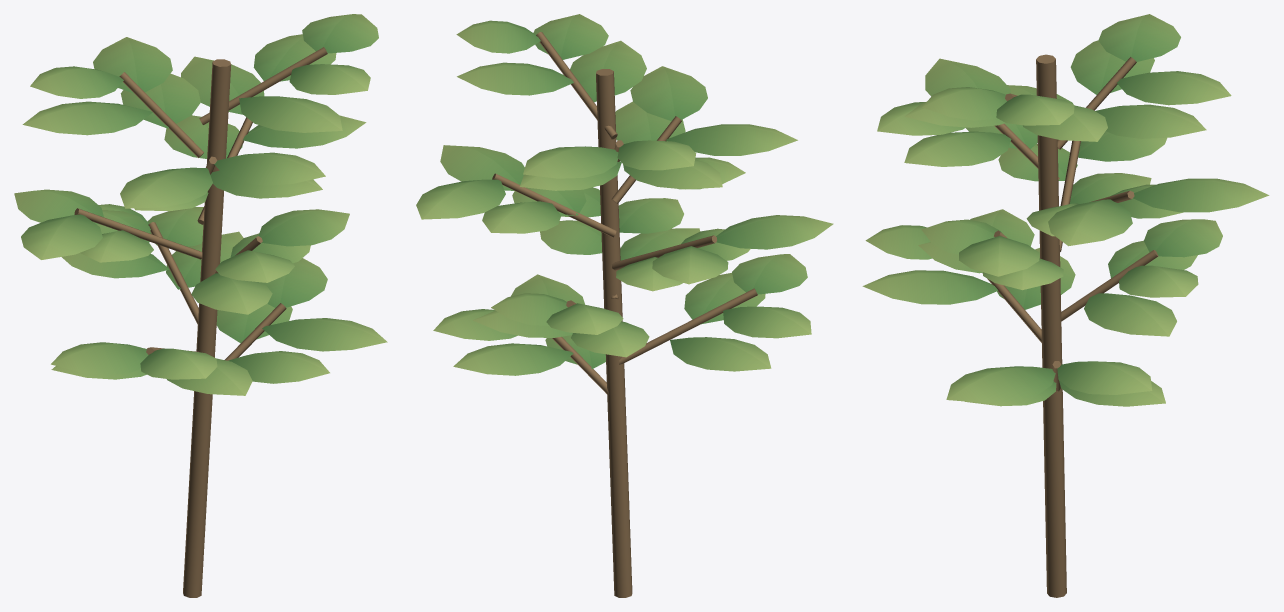
The picture shows the model from 3 angles, left to right: view 1: azimuth 30°, elevation 25°; view 2: azimuth 150°, elevation 25°; view 3: azimuth 270°, elevation 25°; orthographic projection. The views are drawn at different scales.
Parts seen in each view (by area): view 1: leaf_blade, Tidemark_broadleaf_sapling_wood; view 2: leaf_blade, Tidemark_broadleaf_sapling_wood; view 3: leaf_blade, Tidemark_broadleaf_sapling_wood.
Boxes of the visible parts, box(x1,y1,x2,y2) form: leaf_blade: box(14, 14, 387, 395); Tidemark_broadleaf_sapling_wood: box(74, 47, 327, 597); leaf_blade: box(416, 14, 833, 375); Tidemark_broadleaf_sapling_wood: box(492, 32, 757, 597); leaf_blade: box(862, 14, 1269, 406); Tidemark_broadleaf_sapling_wood: box(982, 54, 1158, 597).
Bounding box in the file's own units: 2.39 × 3.44 × 2.24.
Materials: 2 (1 with a texture image).
